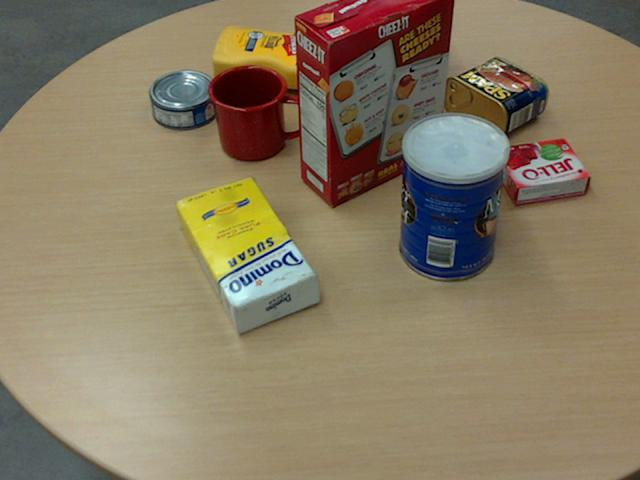cracker_box: (293, 0, 455, 204)
gelatin_box: (493, 136, 589, 202)
large_marker: (375, 23, 393, 112)
master_chef_can: (398, 112, 508, 281)
mug: (207, 64, 308, 160)
mustard_bottle: (212, 24, 364, 89)
potted_meat_can: (441, 57, 547, 141)
sugar_box: (172, 176, 319, 333)
tomato_soup_can: (388, 0, 441, 76)
tuna_fish_can: (148, 69, 218, 128)
